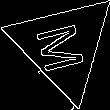M_E: (33, 17, 93, 75)
